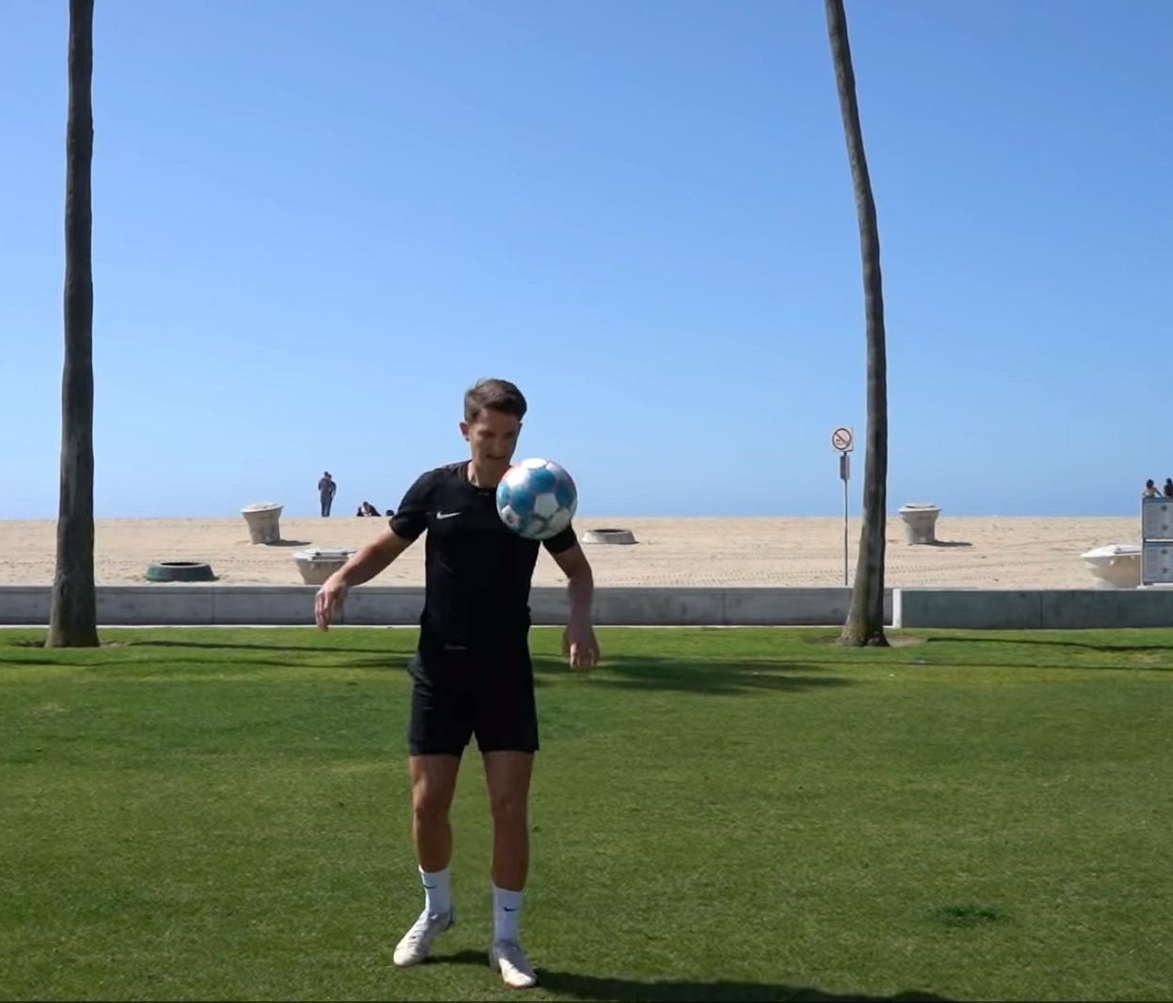ball: (496, 455, 580, 540)
foot: (390, 901, 457, 967), (488, 935, 536, 989)
person: (313, 374, 601, 990)
